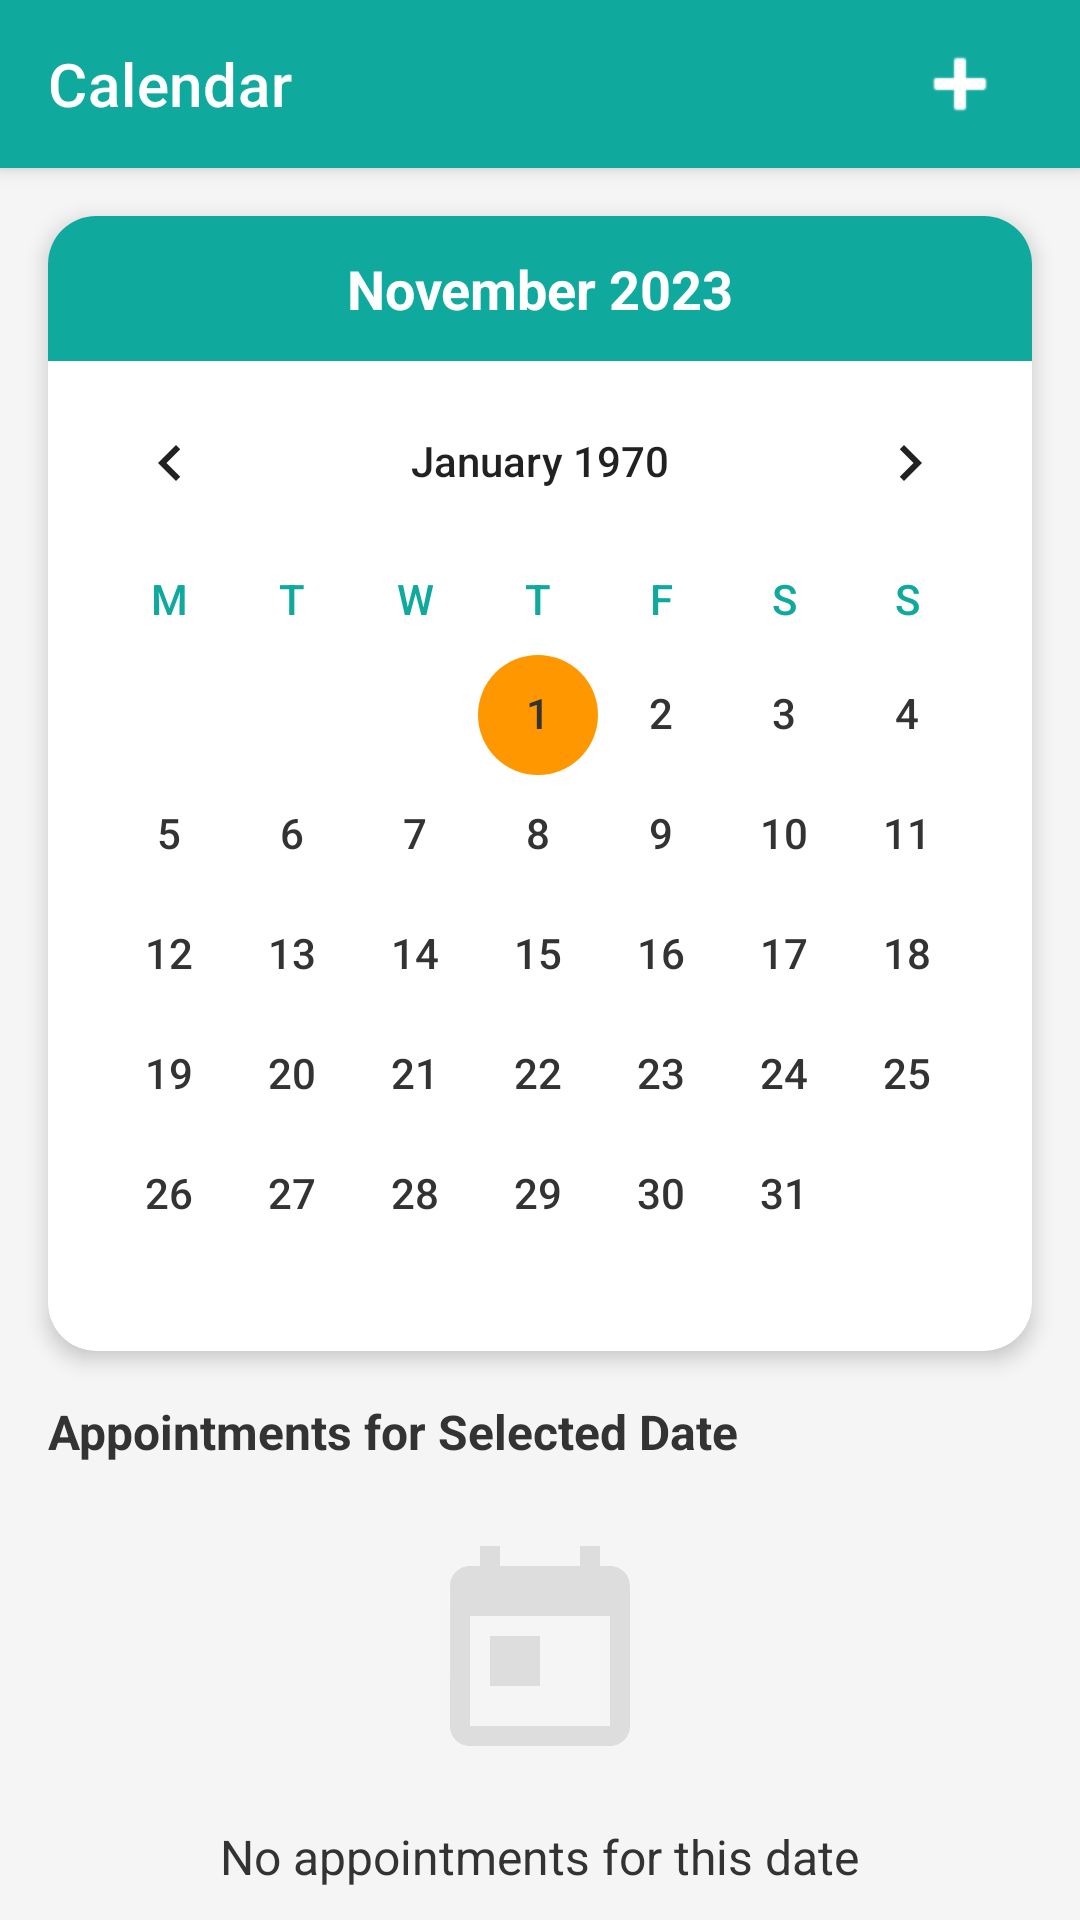

Icons on this 1080px x 1920px Android screen, each with its box as (left=x1, top=y1, right=x2, bottom=y2):
Add Appointment: (left=933, top=57, right=987, bottom=111)
